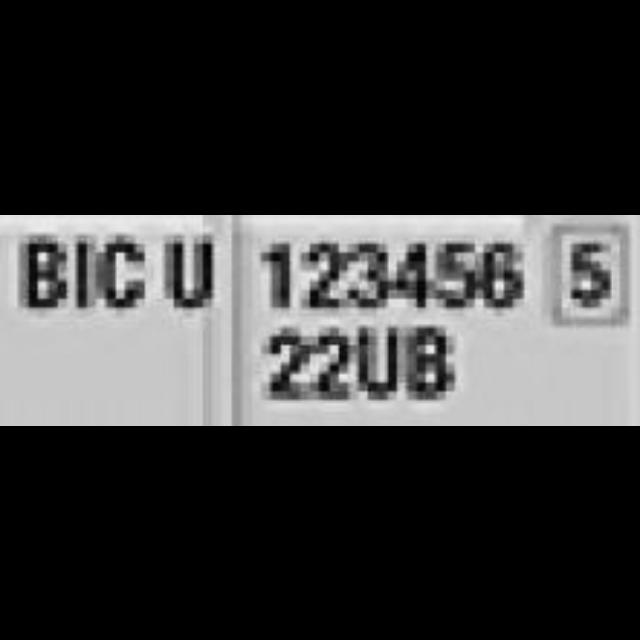1: (254, 231, 296, 315)
2: (258, 318, 314, 406), (298, 230, 348, 314), (312, 319, 354, 407)
3: (344, 229, 392, 315)
4: (390, 227, 438, 317)
5: (558, 224, 618, 318), (437, 231, 479, 317)
6: (476, 226, 526, 310)
8: (401, 318, 465, 408)
b: (17, 220, 72, 318)
c: (98, 223, 158, 319)
i: (70, 224, 94, 318)
u: (162, 228, 220, 316), (354, 318, 401, 404)
